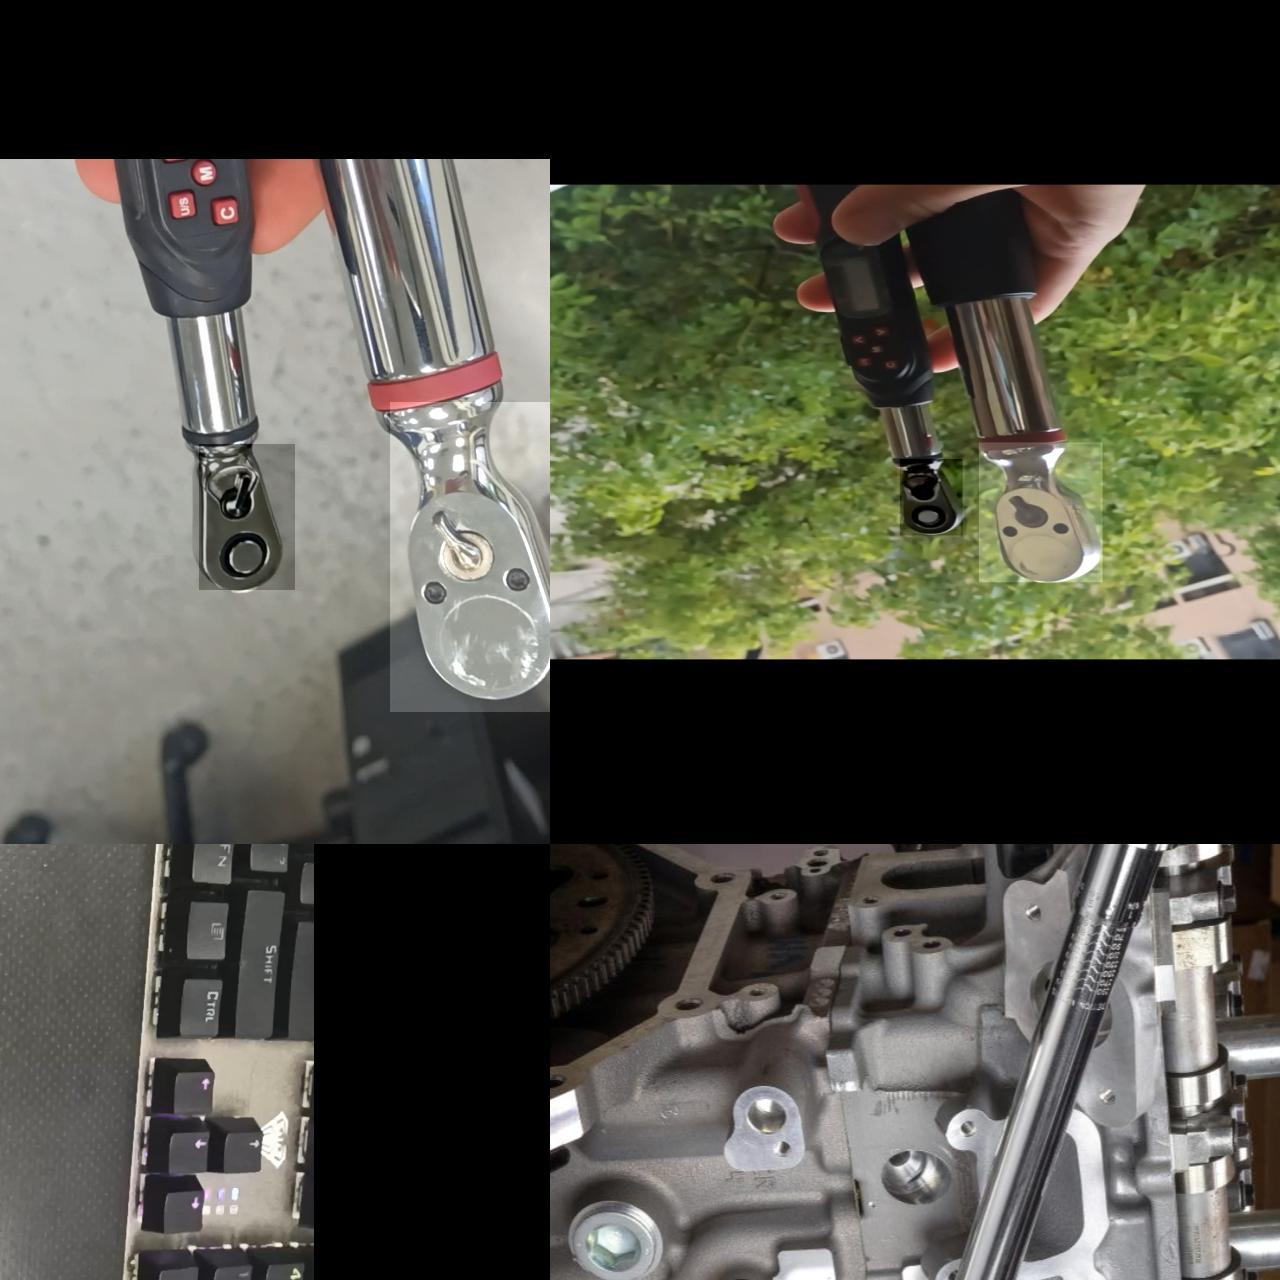Tool: (389, 402, 550, 712), (978, 443, 1102, 583), (198, 444, 294, 590), (899, 458, 961, 536)
